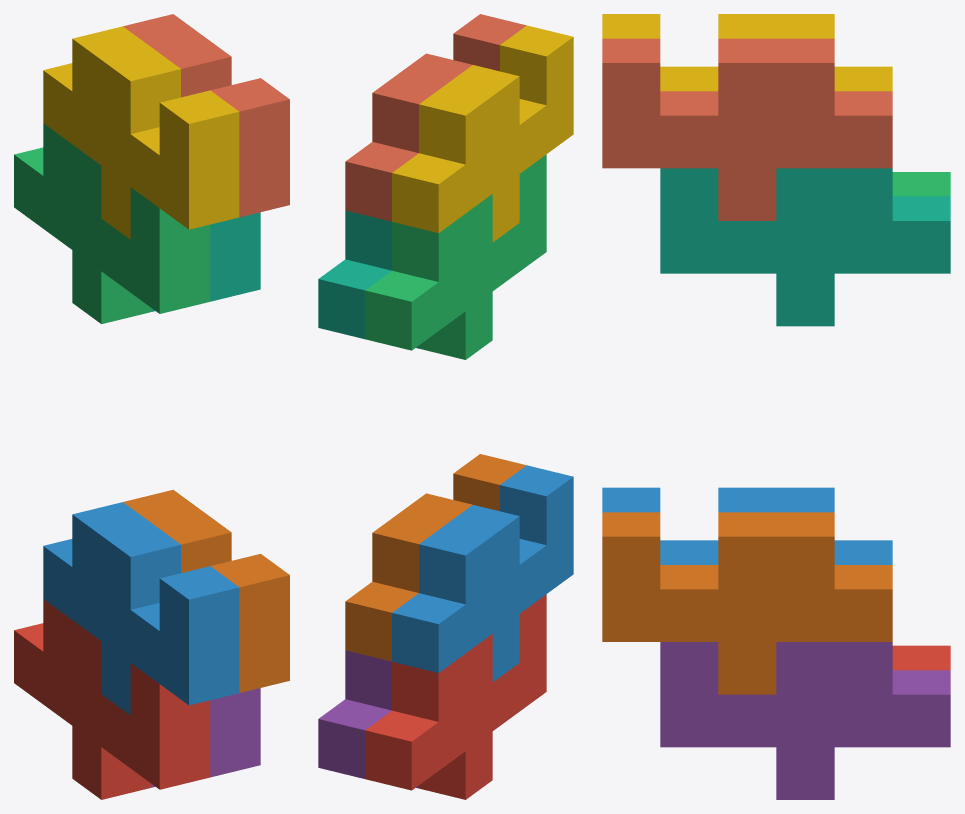
Rendered from tiling.obj.
3 views of the same model, side by side, from view 1: azimuth 30°, elevation 25°; view 2: azimuth 150°, elevation 25°; view 3: azimuth 270°, elevation 25° (orthographic). The views are drawn at different scales.
Parts seen in each view (by area): view 1: copy_1_domain_4, copy_1_domain_2, copy_1_domain_3, copy_1_domain_1, copy_1_domain_8, copy_1_domain_6, copy_1_domain_5, copy_1_domain_7; view 2: copy_1_domain_4, copy_1_domain_2, copy_1_domain_1, copy_1_domain_3, copy_1_domain_8, copy_1_domain_6, copy_1_domain_7, copy_1_domain_5; view 3: copy_1_domain_8, copy_1_domain_6, copy_1_domain_7, copy_1_domain_5, copy_1_domain_2, copy_1_domain_4, copy_1_domain_1, copy_1_domain_3.
Boxes of the visible parts, x1,y1,x2,y2 form: copy_1_domain_4: (43,26,239,239); copy_1_domain_2: (43,502,239,715); copy_1_domain_3: (14,123,210,324); copy_1_domain_1: (14,599,210,799); copy_1_domain_8: (123,14,289,217); copy_1_domain_6: (123,489,289,692); copy_1_domain_5: (152,688,260,787); copy_1_domain_7: (152,212,260,311); copy_1_domain_4: (392,25,573,242); copy_1_domain_2: (392,465,573,681); copy_1_domain_1: (365,594,546,799); copy_1_domain_3: (365,154,546,359); copy_1_domain_8: (345,14,526,221); copy_1_domain_6: (345,454,526,661); copy_1_domain_7: (318,210,418,348); copy_1_domain_5: (318,650,418,788); copy_1_domain_8: (602,38,892,220); copy_1_domain_6: (602,512,892,694); copy_1_domain_7: (660,168,950,326); copy_1_domain_5: (660,642,950,799); copy_1_domain_2: (602,487,892,564); copy_1_domain_4: (602,14,892,91); copy_1_domain_1: (892,645,950,670); copy_1_domain_3: (892,172,950,196).
Size of the model in its own units: 2 by 14 by 6.
